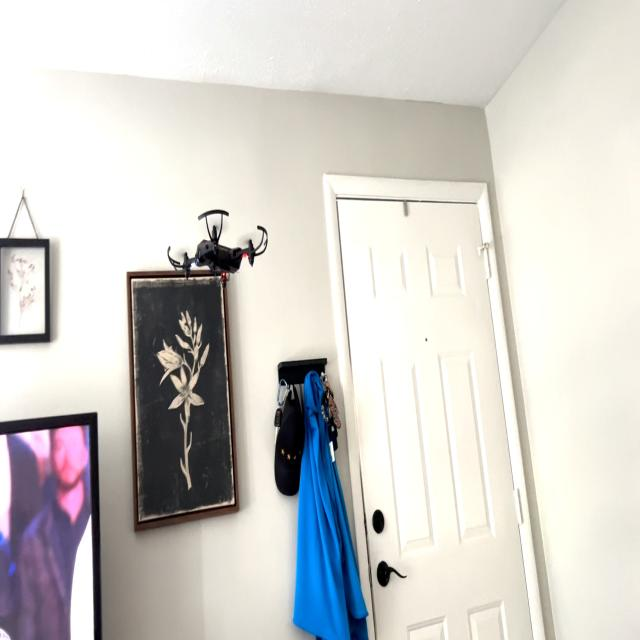drone: (158, 184, 276, 303)
